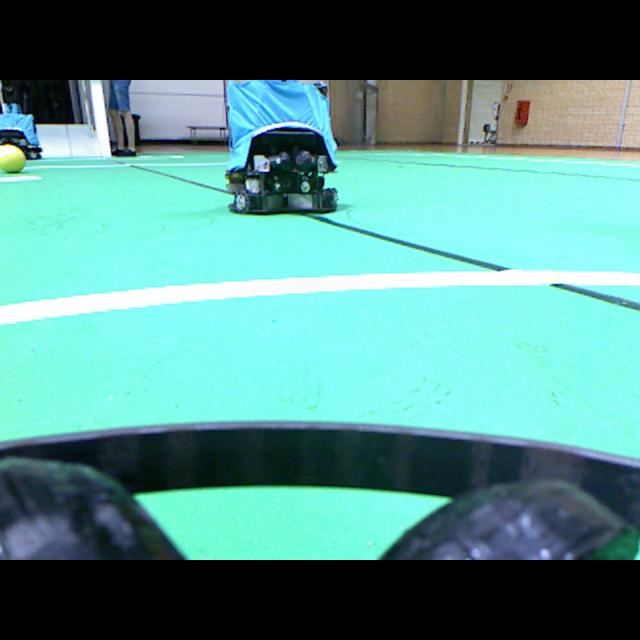ball: (0, 144, 25, 172)
goal: (89, 80, 110, 156)
